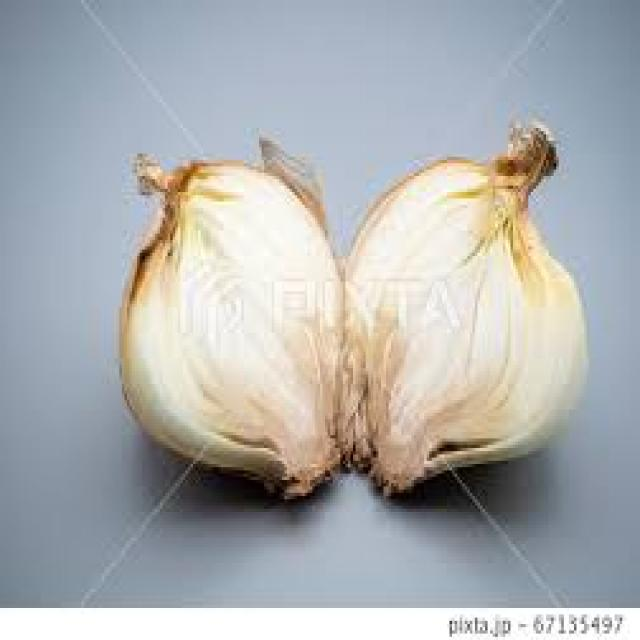organic waste: (338, 119, 582, 486), (114, 128, 338, 496)
